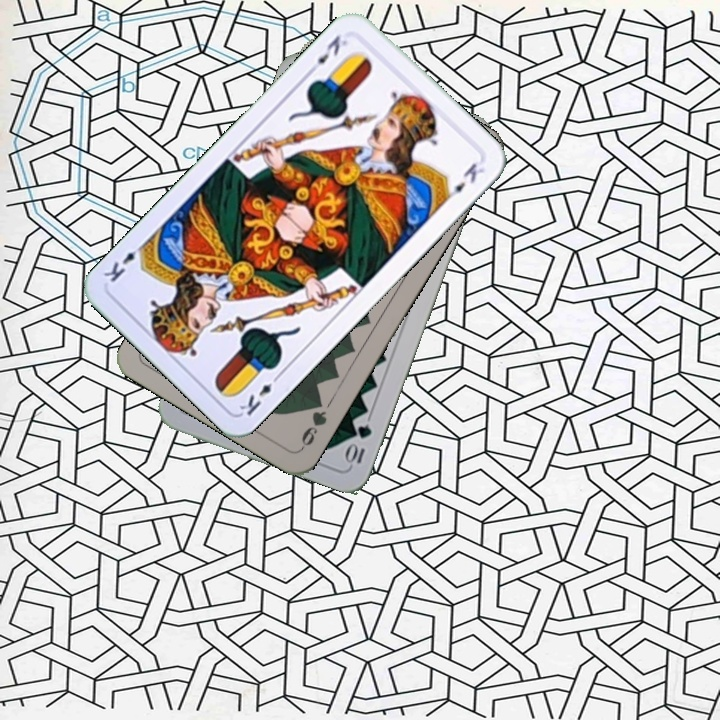EK: (235, 369, 284, 418), (304, 31, 351, 77)
G10: (343, 420, 375, 469)
G9: (297, 394, 330, 452)
